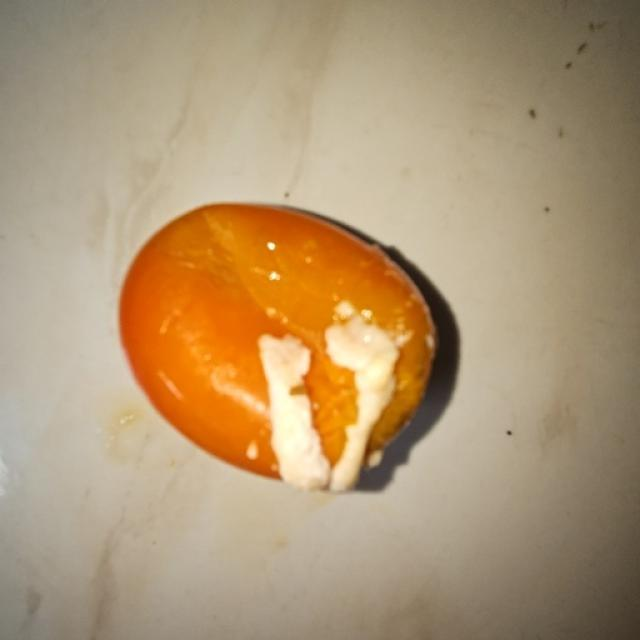Red: (116, 199, 438, 493)
